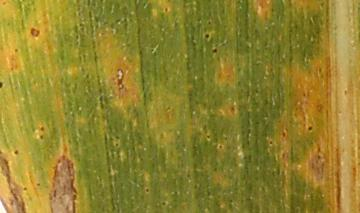tarspot: (209, 46, 220, 56), (202, 31, 212, 41), (21, 185, 30, 195), (306, 124, 315, 134), (217, 143, 225, 153), (162, 6, 172, 14), (111, 141, 121, 149), (38, 125, 47, 133), (142, 187, 152, 194), (12, 149, 21, 156), (34, 182, 43, 189), (159, 200, 168, 207), (39, 134, 46, 142), (206, 20, 214, 27), (267, 139, 275, 146), (205, 134, 213, 141), (1, 80, 6, 90), (13, 47, 20, 54)
